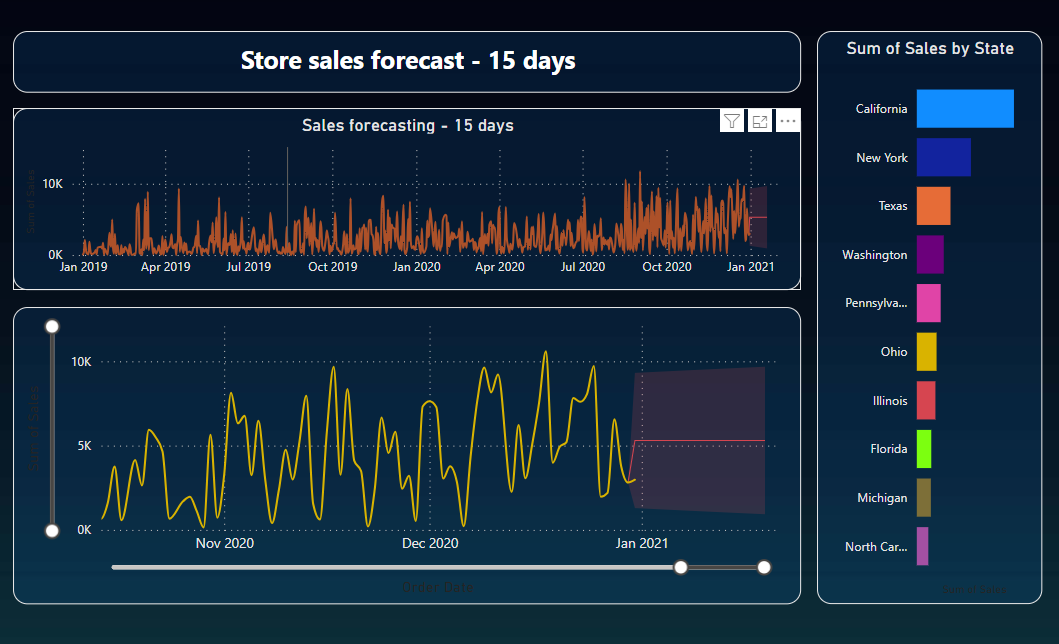

The dashboard page shown, as its layout file describes it:
{"tool":"powerbi","page":{"name":"Page 2","canvas":[1280,720],"ordinal":1},"visuals":[{"type":"lineChart","title":"Sales forecasting - 15 days","fields":{"Y":["Sum(SuperStore_Sales_Dataset.Sales)"],"Category":["SuperStore_Sales_Dataset.Order Date"]},"box":[236.2,105.9,765.9,176.9],"z":0},{"type":"lineChart","fields":{"Y":["Sum(SuperStore_Sales_Dataset.Sales)"],"Category":["SuperStore_Sales_Dataset.Order Date"]},"box":[236.2,299.3,765.9,288.7],"z":1000},{"type":"textbox","box":[236.2,31.1,765.9,60.3],"z":2000},{"type":"clusteredBarChart","fields":{"Category":["SuperStore_Sales_Dataset.State"],"Y":["Sum(SuperStore_Sales_Dataset.Sales)"]},"box":[1017.6,31.1,218.7,556.9],"z":2001}]}

Visuals, with their boxes on the page's 1280x720 design canvas (x1, y1, x2, y2). These are canvas units, not pixel positions in the 1059x644 screenshot, which may show the page scaled, cropped or inside an application window:
"Sales forecasting - 15 days" lineChart: (236,106,1002,283)
lineChart - Sum(SuperStore_Sales_Dataset.Sales) x SuperStore_Sales_Dataset.Order Date: (236,299,1002,588)
textbox: (236,31,1002,91)
clusteredBarChart - SuperStore_Sales_Dataset.State x Sum(SuperStore_Sales_Dataset.Sales): (1018,31,1236,588)
